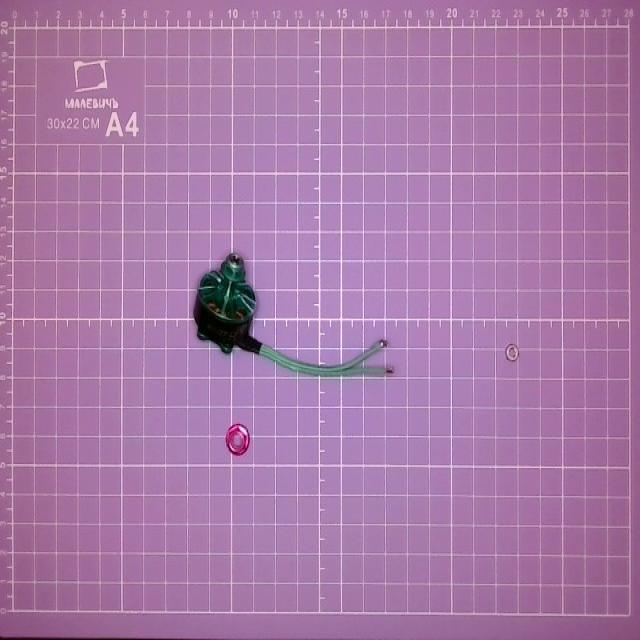motor: (196, 249, 396, 383)
screw_M3: (504, 346, 521, 360)
screw_M5: (225, 423, 250, 456)
